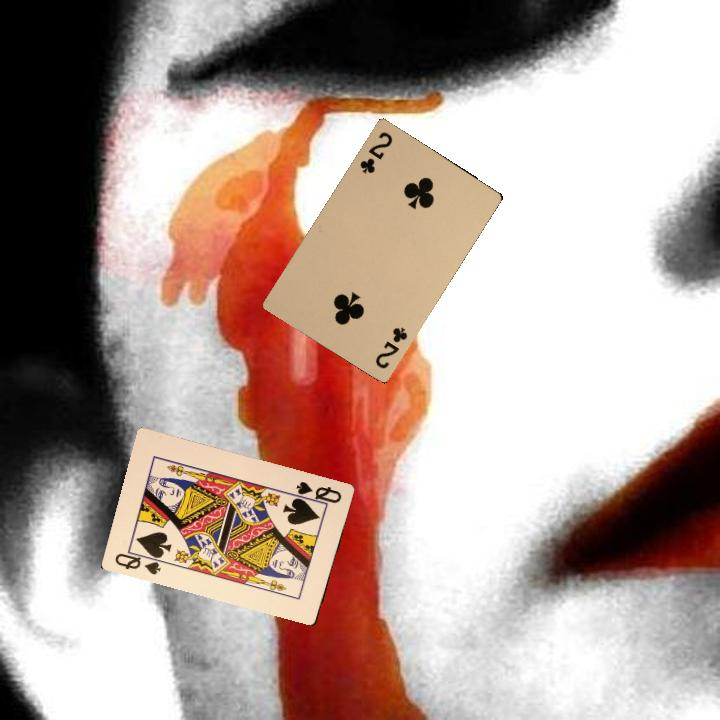2c: (356, 127, 395, 176), (371, 323, 410, 371)
Qs: (288, 477, 344, 508), (111, 545, 165, 577)
